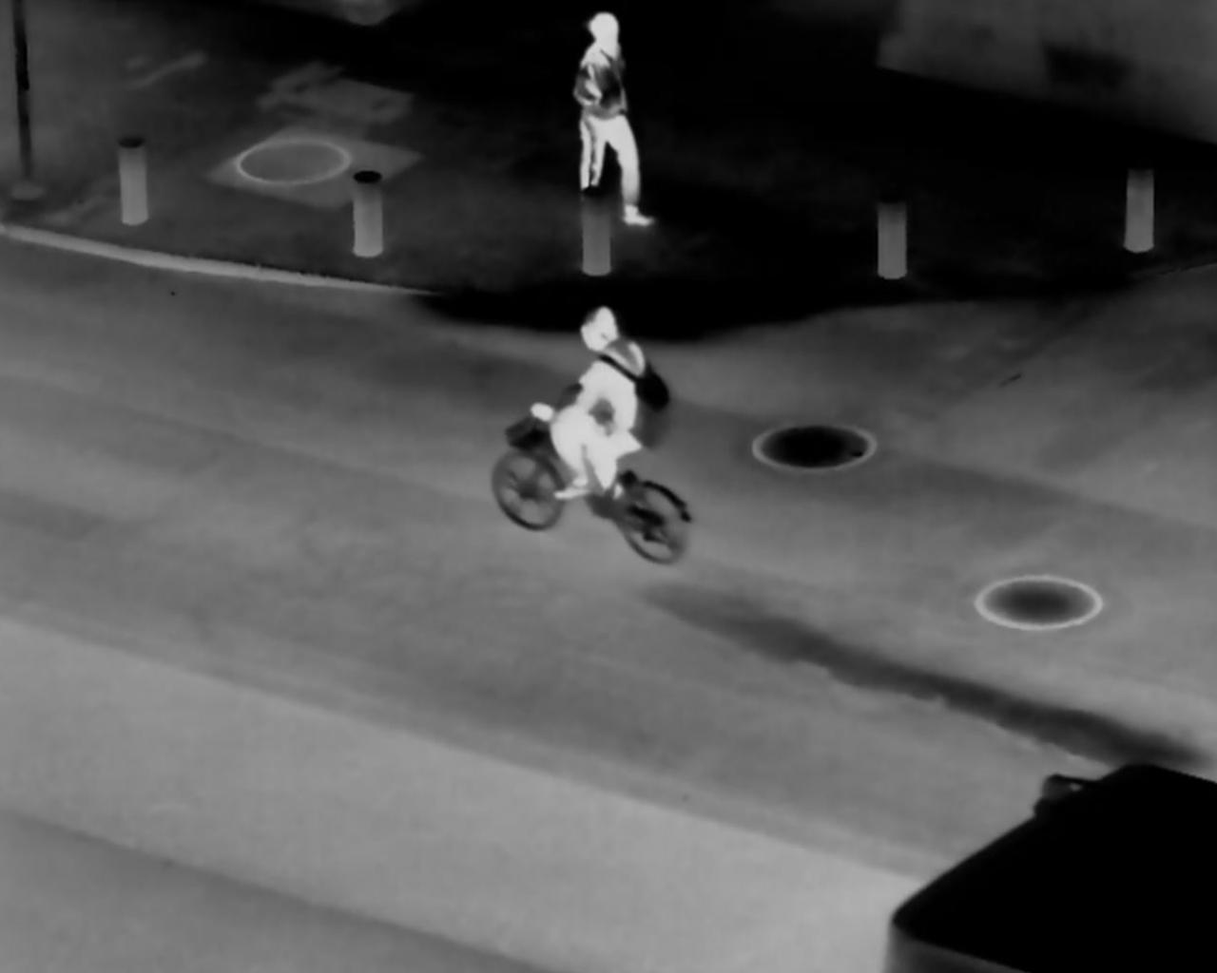person: (530, 302, 664, 511), (563, 4, 649, 222)
